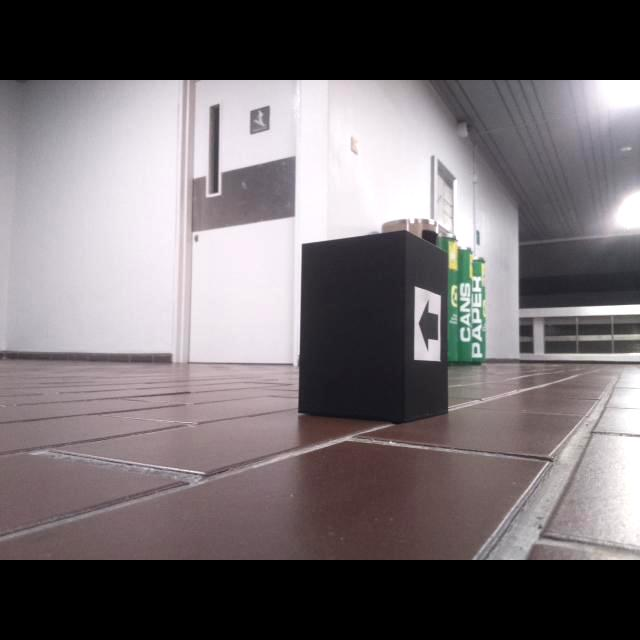LEFT: (417, 297, 439, 353)
